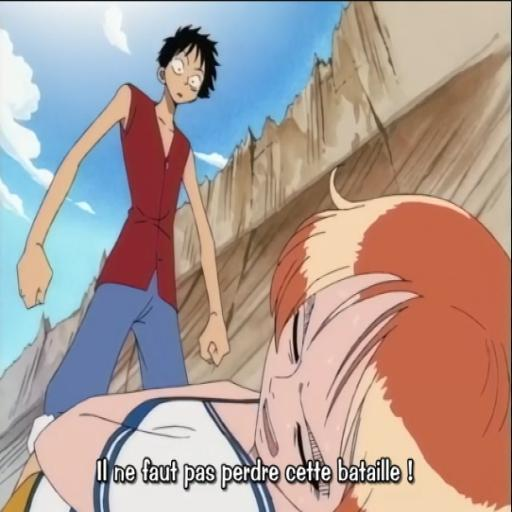Luffy: (28, 15, 230, 382)
Nami: (220, 187, 512, 512)
